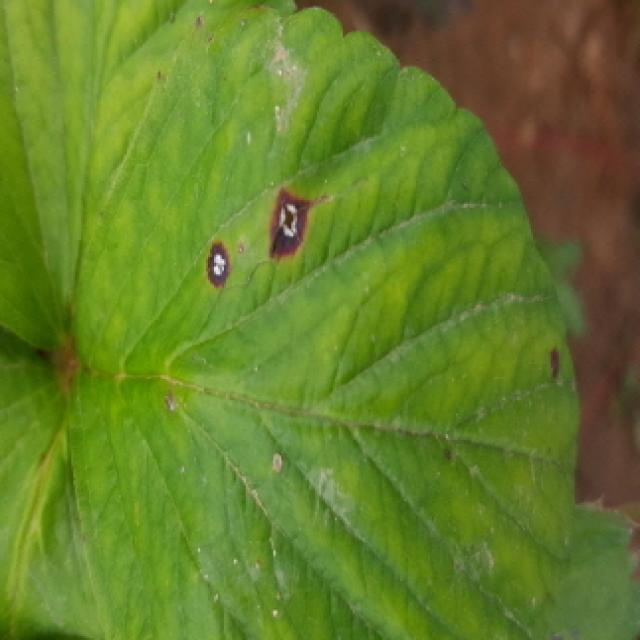Leaf Spot: (67, 6, 580, 640)
